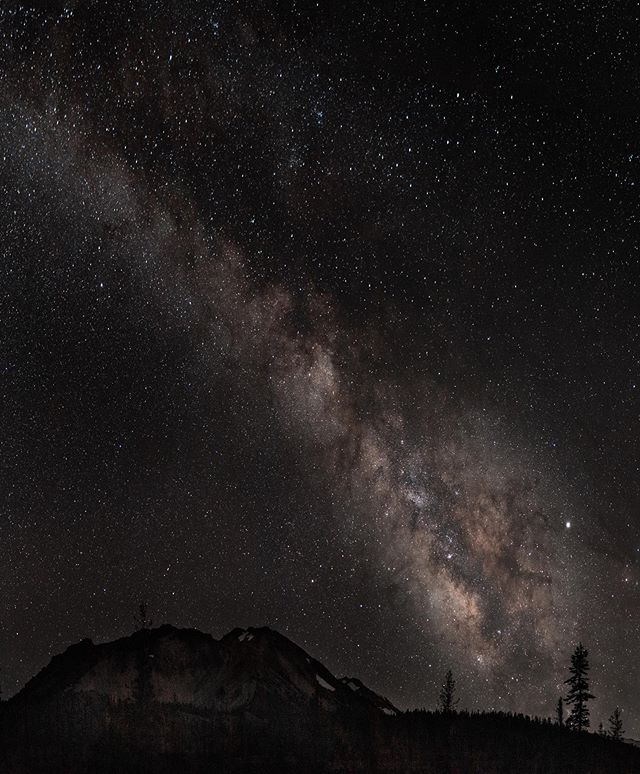mountain: (1, 621, 438, 741)
sky: (1, 1, 640, 635)
tree: (541, 635, 620, 747), (431, 667, 468, 725)
